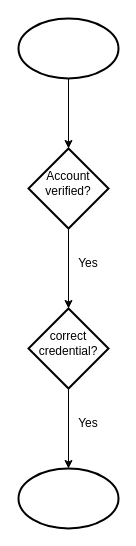
This 136x546 diagram has some shape labels left out. Each missing label, with the box of its shape:
Login Successfully: (17, 467, 119, 529)
Provide email and password: (17, 17, 119, 79)
